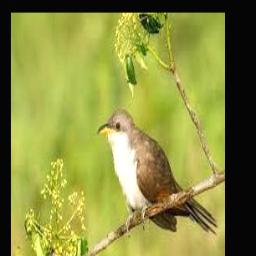Cuckoo: (97, 109, 218, 231)
